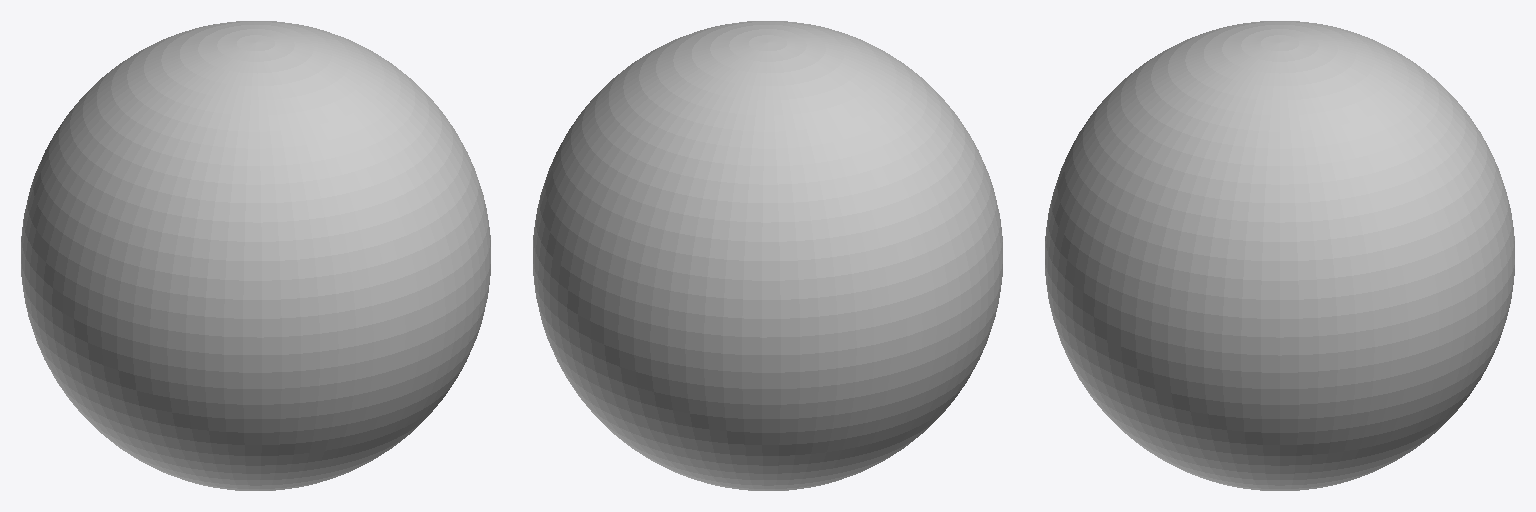
Rendered from sphere flip faces.obj.
The picture shows the model from 3 angles: view 1: azimuth 30°, elevation 25°; view 2: azimuth 150°, elevation 25°; view 3: azimuth 270°, elevation 25°; orthographic projection.
Visible parts, largest first — view 1: Sphere; view 2: Sphere; view 3: Sphere.
Boxes of the visible parts, box(x1,y1,x2,y2) form: Sphere: box(21, 21, 490, 490); Sphere: box(533, 21, 1002, 490); Sphere: box(1045, 21, 1514, 490).
Bounding box in the file's own units: 198 × 198 × 198.